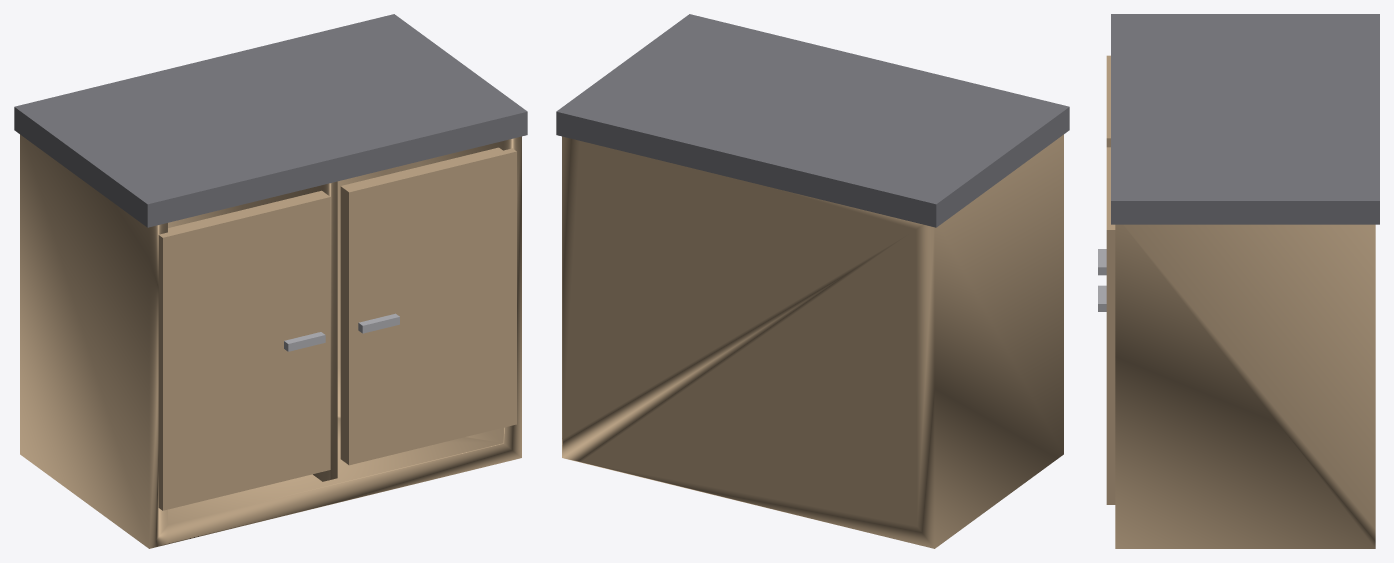
Rendered from kitchen_empty_counter.glb.
3 views of the same model, side by side, from view 1: azimuth 30°, elevation 25°; view 2: azimuth 150°, elevation 25°; view 3: azimuth 270°, elevation 25° (orthographic).
Parts seen in each view (by area): view 1: merged_cabinet_wood, counter_top, cabinet_door_r, cabinet_door_l; view 2: merged_cabinet_wood, counter_top; view 3: merged_cabinet_wood, counter_top, cabinet_door_r, cabinet_door_l.
Part boxes in pixels (x1,y1,x2,y2): merged_cabinet_wood: [20, 134, 521, 548]; counter_top: [14, 14, 527, 227]; cabinet_door_r: [340, 147, 516, 465]; cabinet_door_l: [158, 190, 330, 510]; merged_cabinet_wood: [562, 134, 1063, 548]; counter_top: [556, 14, 1069, 227]; merged_cabinet_wood: [1115, 224, 1375, 548]; counter_top: [1111, 14, 1379, 224]; cabinet_door_r: [1106, 147, 1115, 504]; cabinet_door_l: [1106, 55, 1110, 147].
Size of the model in its own units: 1.02 by 0.89 by 0.65.
